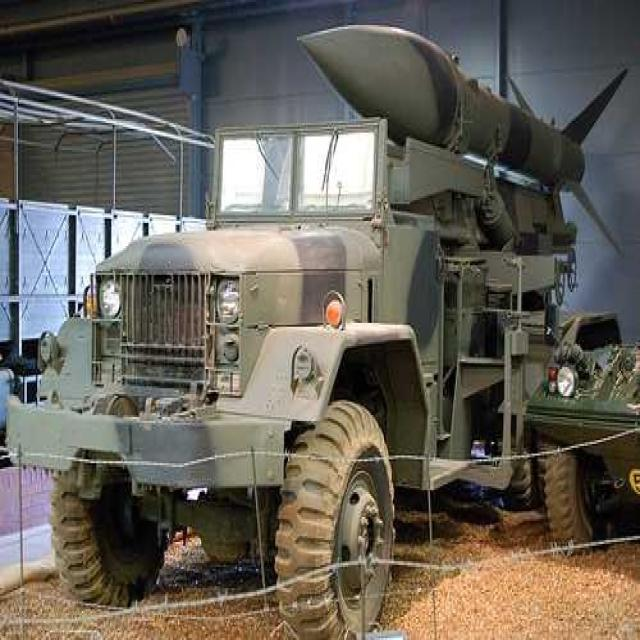missile: (296, 22, 632, 255)
